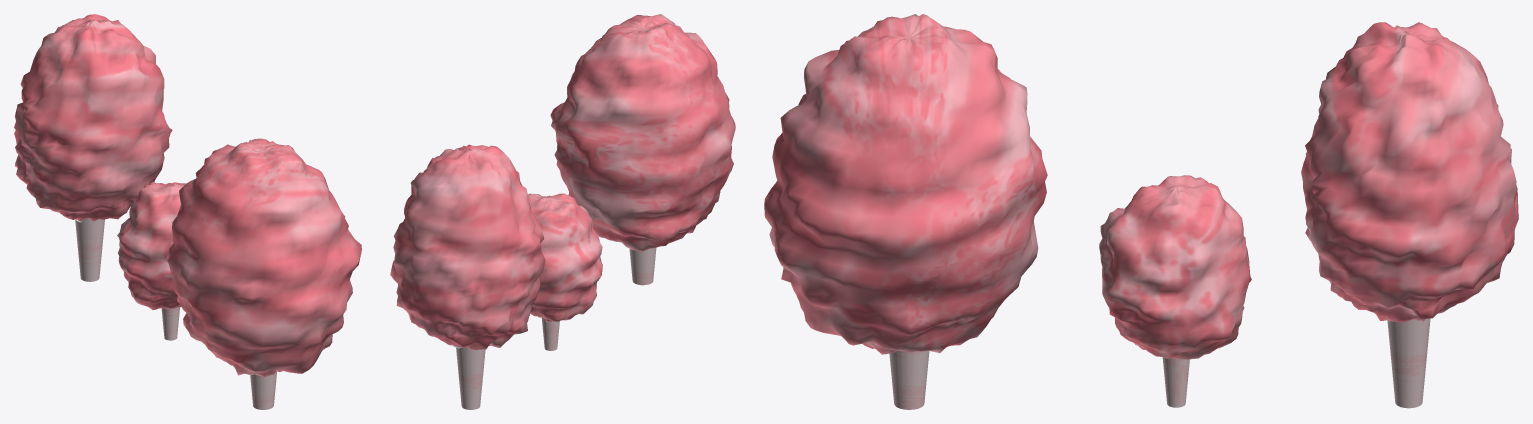
3 renders of one model, left to right at view 1: azimuth 30°, elevation 25°; view 2: azimuth 150°, elevation 25°; view 3: azimuth 270°, elevation 25°, orthographic. The views are drawn at different scales.
Parts seen in each view (by area): view 1: boom_3, boom_2, boom_1; view 2: boom_3, boom_2, boom_1; view 3: boom_3, boom_2, boom_1.
Boxes of the visible parts, bbox=[...] form: boom_3: bbox=[167, 138, 361, 409]; boom_2: bbox=[14, 14, 172, 281]; boom_1: bbox=[117, 182, 186, 340]; boom_3: bbox=[550, 14, 735, 285]; boom_2: bbox=[390, 144, 545, 409]; boom_1: bbox=[528, 193, 602, 350]; boom_3: bbox=[764, 14, 1047, 409]; boom_2: bbox=[1301, 22, 1518, 408]; boom_1: bbox=[1099, 175, 1251, 407].
Bounding box in the file's own units: 12.85 × 19.41 × 35.15.
Materials: 1 (1 with a texture image).
